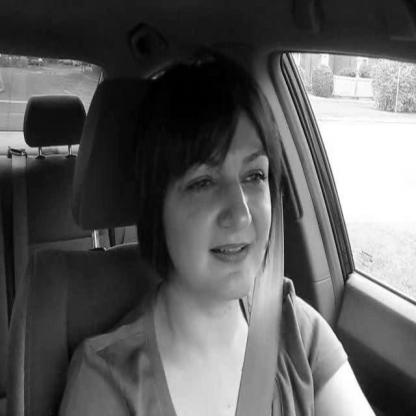seatbelt: (144, 48, 299, 416)
